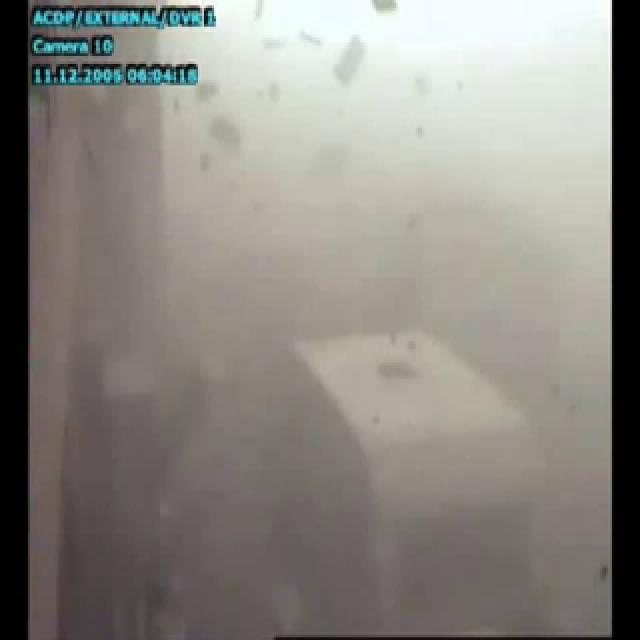explosion: (67, 55, 640, 595)
